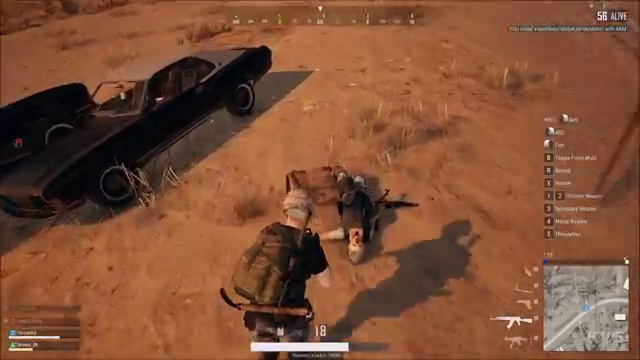Player: (232, 185, 327, 316)
